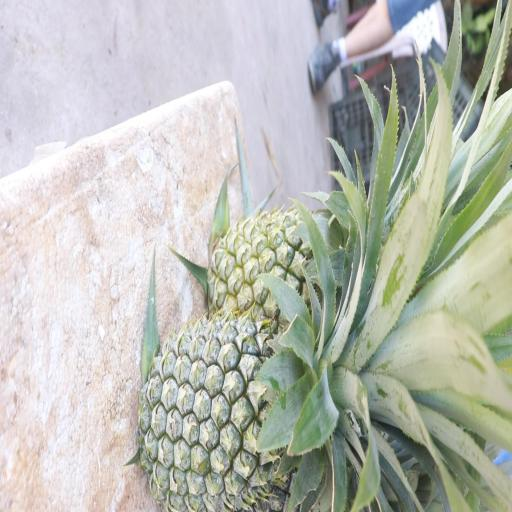Pineapple - v8 v1: (217, 200, 379, 328)
